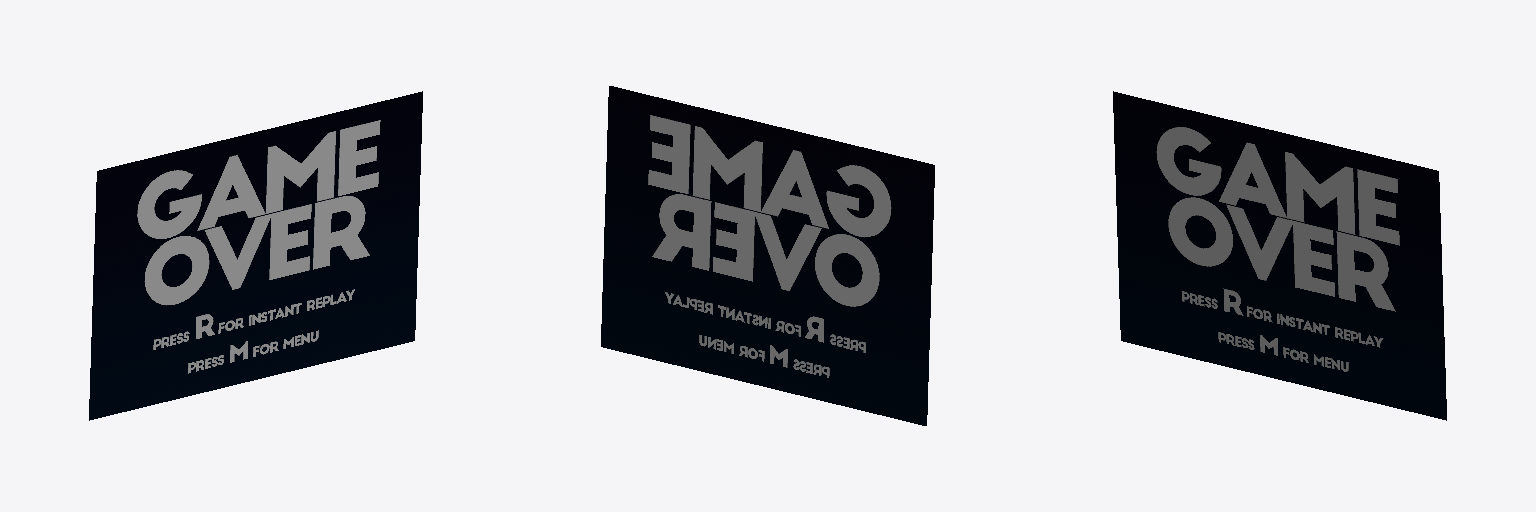
3 views of the same model, side by side, from view 1: azimuth 30°, elevation 25°; view 2: azimuth 150°, elevation 25°; view 3: azimuth 330°, elevation 25° (orthographic).
Parts seen in each view (by area): view 1: Plane; view 2: Plane; view 3: Plane.
Part boxes in pixels (x1,y1,x2,y2): Plane: (89, 91, 422, 420); Plane: (601, 86, 934, 425); Plane: (1113, 91, 1446, 420).
Size of the model in its own units: 80 by 59.9 by 3.43.
Materials: 1 (1 with a texture image).